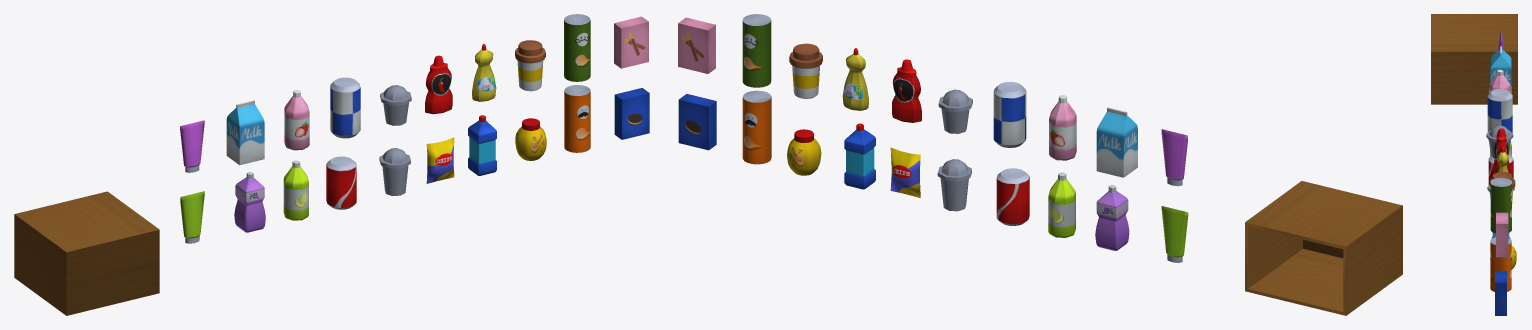
Rendered from item_goodsort.fbx.
3 renders of one model, left to right at view 1: azimuth 30°, elevation 25°; view 2: azimuth 150°, elevation 25°; view 3: azimuth 270°, elevation 25°, orthographic. The views are drawn at different scales.
Parts seen in each view (by area): view 1: shelf, obj_17, obj_4, obj_3, obj_13, obj_2, obj_1, obj_14, obj_18, obj_8, obj_16, obj_15 (+9 smaller); view 2: shelf, obj_17, obj_4, obj_3, obj_13, obj_2, obj_1, obj_14, obj_18, obj_8, obj_15, obj_16 (+9 smaller); view 3: shelf, obj_13, obj_3, obj_4, obj_1, obj_17, obj_2, obj_9, obj_11, obj_15, obj_14, obj_7 (+3 smaller).
Boxes of the visible parts, x1=… form: shelf: x1=14, y1=191, x2=159, y2=315; obj_17: x1=226, y1=100, x2=264, y2=165; obj_4: x1=564, y1=85, x2=590, y2=152; obj_3: x1=564, y1=14, x2=590, y2=81; obj_13: x1=330, y1=77, x2=360, y2=138; obj_2: x1=614, y1=88, x2=649, y2=139; obj_1: x1=614, y1=16, x2=648, y2=68; obj_14: x1=326, y1=156, x2=356, y2=209; obj_18: x1=234, y1=172, x2=265, y2=232; obj_8: x1=468, y1=115, x2=496, y2=175; obj_16: x1=283, y1=160, x2=308, y2=220; obj_15: x1=284, y1=90, x2=309, y2=150; shelf: x1=1245, y1=181, x2=1402, y2=315; obj_17: x1=1096, y1=107, x2=1137, y2=177; obj_4: x1=742, y1=90, x2=771, y2=164; obj_3: x1=742, y1=14, x2=771, y2=87; obj_13: x1=993, y1=82, x2=1026, y2=147; obj_2: x1=678, y1=94, x2=716, y2=150; obj_1: x1=678, y1=17, x2=715, y2=73; obj_14: x1=996, y1=168, x2=1029, y2=225; obj_18: x1=1095, y1=185, x2=1129, y2=250; obj_8: x1=844, y1=123, x2=875, y2=189; obj_15: x1=1049, y1=95, x2=1076, y2=160; obj_16: x1=1048, y1=172, x2=1075, y2=237; shelf: x1=1431, y1=14, x2=1517, y2=104; obj_13: x1=1487, y1=89, x2=1512, y2=132; obj_3: x1=1490, y1=177, x2=1511, y2=233; obj_4: x1=1490, y1=237, x2=1511, y2=291; obj_1: x1=1496, y1=212, x2=1508, y2=257; obj_17: x1=1490, y1=46, x2=1511, y2=93; obj_2: x1=1495, y1=271, x2=1506, y2=315; obj_9: x1=1493, y1=128, x2=1509, y2=173; obj_11: x1=1486, y1=125, x2=1513, y2=158; obj_15: x1=1489, y1=69, x2=1510, y2=93; obj_14: x1=1488, y1=154, x2=1513, y2=185; obj_7: x1=1497, y1=147, x2=1508, y2=172.
Size of the model in its own units: 448 by 89.82 by 65.18.
